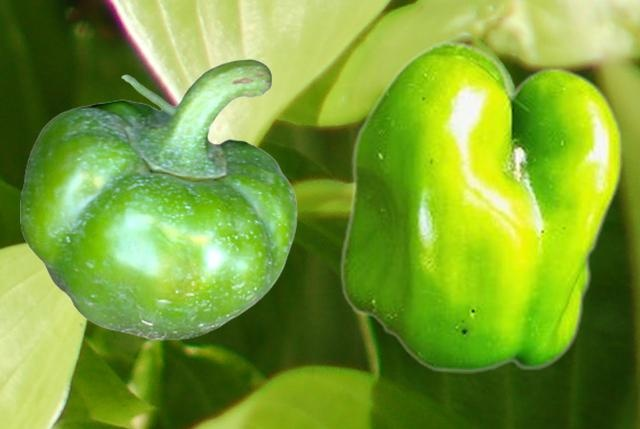bell_pepper: (339, 40, 621, 372), (20, 58, 296, 339)
